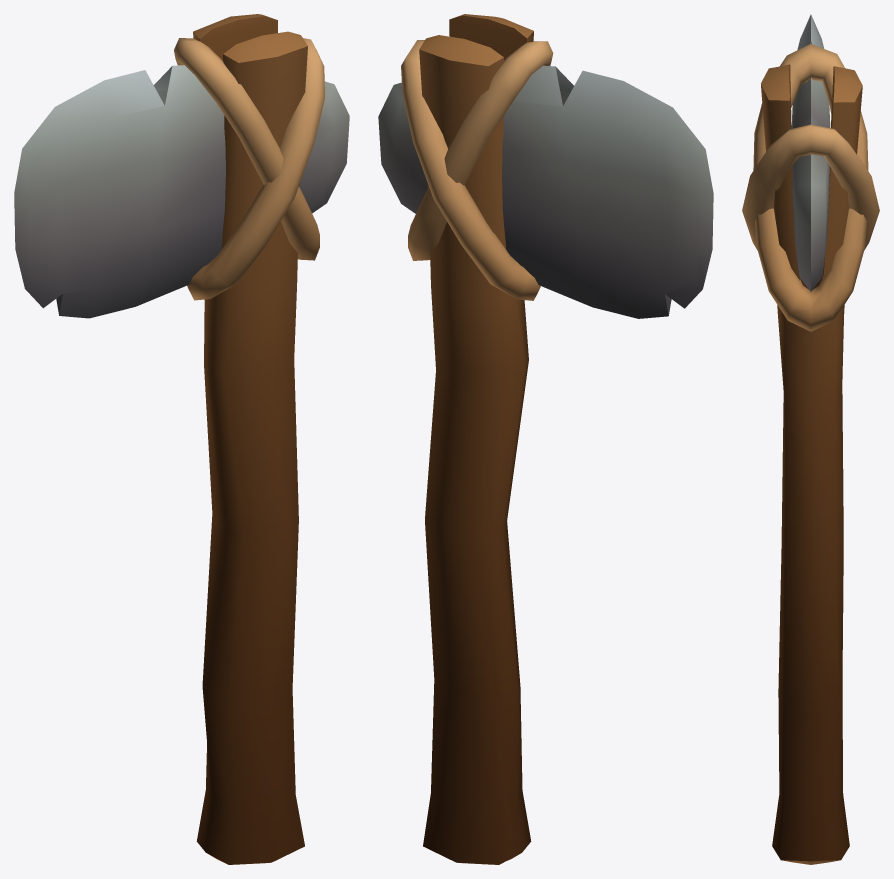
File: Axe_01.obj
3 renders of one model, left to right at view 1: azimuth 30°, elevation 25°; view 2: azimuth 150°, elevation 25°; view 3: azimuth 270°, elevation 25°, orthographic. The views are drawn at different scales.
Parts seen in each view (by area): view 1: Axe_01; view 2: Axe_01; view 3: Axe_01.
Boxes of the visible parts, box(x1,y1,x2,y2) form: Axe_01: box(14, 14, 349, 864); Axe_01: box(378, 14, 713, 864); Axe_01: box(742, 14, 879, 864).
Size of the model in its own units: 0.4367 by 1.03 by 0.1651.
